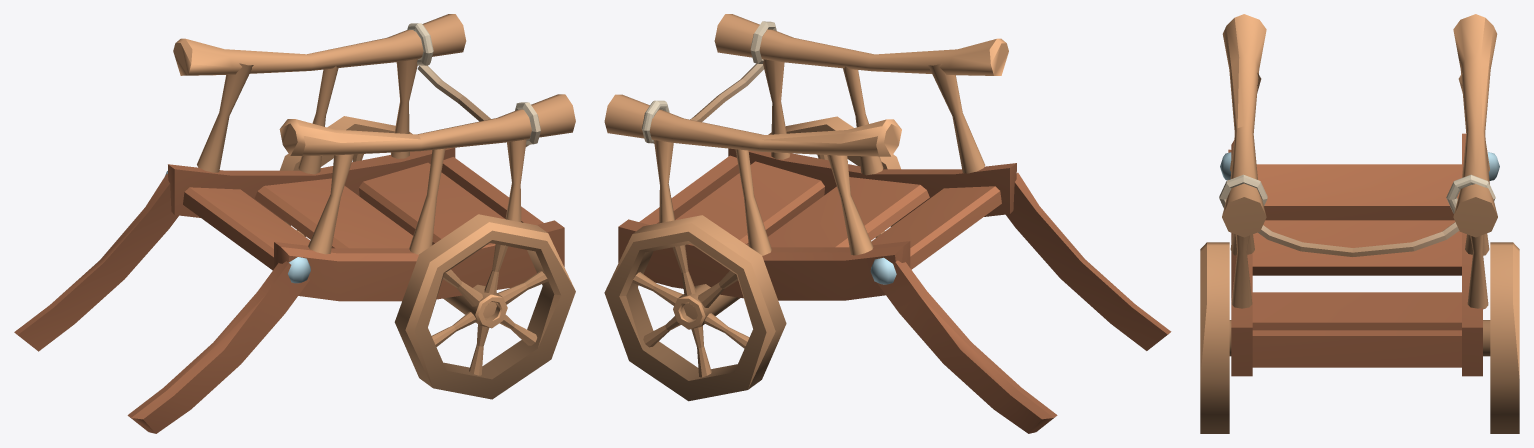
Rendered from cart.glb.
3 renders of one model, left to right at view 1: azimuth 30°, elevation 25°; view 2: azimuth 150°, elevation 25°; view 3: azimuth 270°, elevation 25°, orthographic. The views are drawn at different scales.
Visible parts, largest first — view 1: cart, Cylinder.022; view 2: cart, Cylinder.022; view 3: cart, Cylinder.022.
Boxes of the visible parts, box(x1,y1,x2,y2) form: cart: box(14, 14, 575, 433); Cylinder.022: box(280, 116, 575, 399); cart: box(604, 14, 1171, 433); Cylinder.022: box(604, 116, 900, 401); cart: box(1219, 14, 1499, 376); Cylinder.022: box(1200, 242, 1519, 433).
Size of the model in its own units: 5.3 by 3.56 by 3.16.
1 material, 1 textured.
